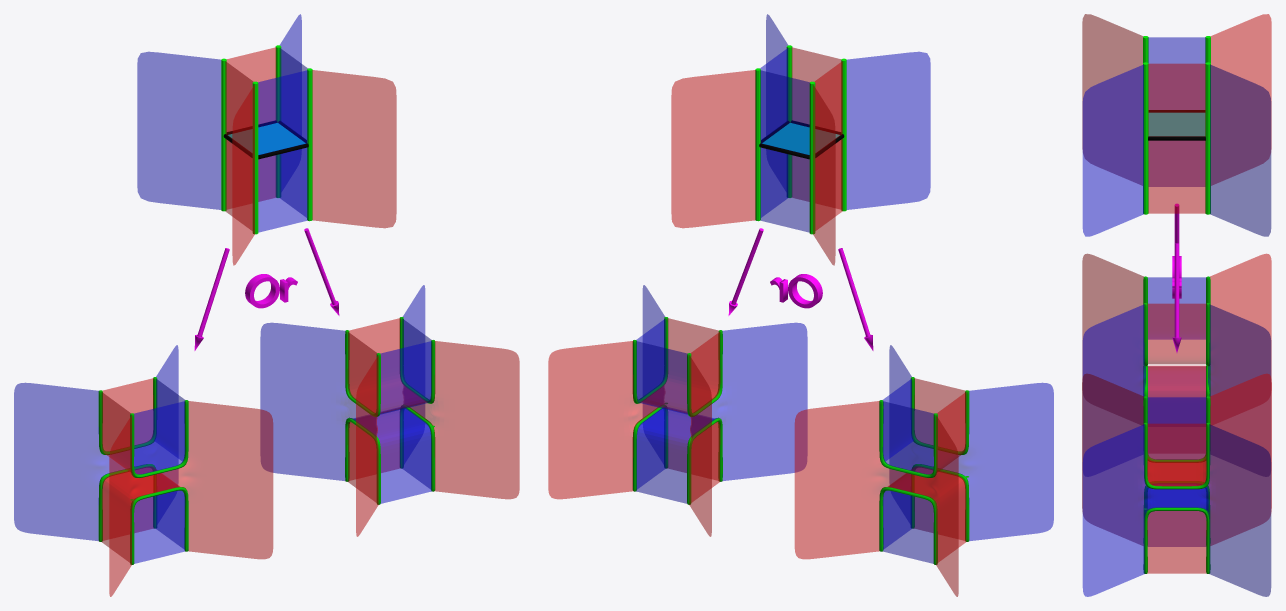
Rendered from 4compression.glb.
The picture shows the model from 3 angles, left to right: view 1: azimuth 30°, elevation 25°; view 2: azimuth 150°, elevation 25°; view 3: azimuth 270°, elevation 25°; orthographic projection.
Parts seen in each view (by area): view 1: surface.002, surface.001, surface, sing, sing.001, sing.002, compdisk, Or; view 2: surface.002, surface.001, surface, sing, sing.001, sing.002, compdisk, Or; view 3: surface.002, surface, surface.001, sing.002, sing, compdisk, sing.001, NurbsPath, intersection.
Part boxes in pixels (bbox=[...]): surface.002: bbox=[260, 285, 519, 536]; surface.001: bbox=[14, 345, 273, 596]; surface: bbox=[137, 14, 396, 265]; sing: bbox=[221, 45, 312, 234]; sing.001: bbox=[98, 377, 188, 564]; sing.002: bbox=[345, 317, 435, 504]; compdisk: bbox=[228, 123, 305, 154]; Or: bbox=[245, 274, 297, 308]; surface.002: bbox=[548, 285, 807, 536]; surface.001: bbox=[794, 345, 1053, 596]; surface: bbox=[671, 14, 930, 265]; sing: bbox=[755, 45, 846, 234]; sing.001: bbox=[879, 377, 969, 564]; sing.002: bbox=[632, 317, 722, 504]; compdisk: bbox=[762, 123, 839, 154]; Or: bbox=[770, 274, 822, 308]; surface.002: bbox=[1082, 373, 1271, 596]; surface: bbox=[1082, 14, 1271, 236]; surface.001: bbox=[1082, 253, 1271, 457]; sing.002: bbox=[1143, 396, 1210, 573]; sing: bbox=[1143, 36, 1210, 214]; compdisk: bbox=[1148, 112, 1205, 136]; sing.001: bbox=[1143, 276, 1210, 422]; NurbsPath: bbox=[1172, 243, 1181, 352]; intersection: bbox=[1148, 110, 1205, 140].
Size of the model in its own units: 10.01 by 10.5 by 4.01.
